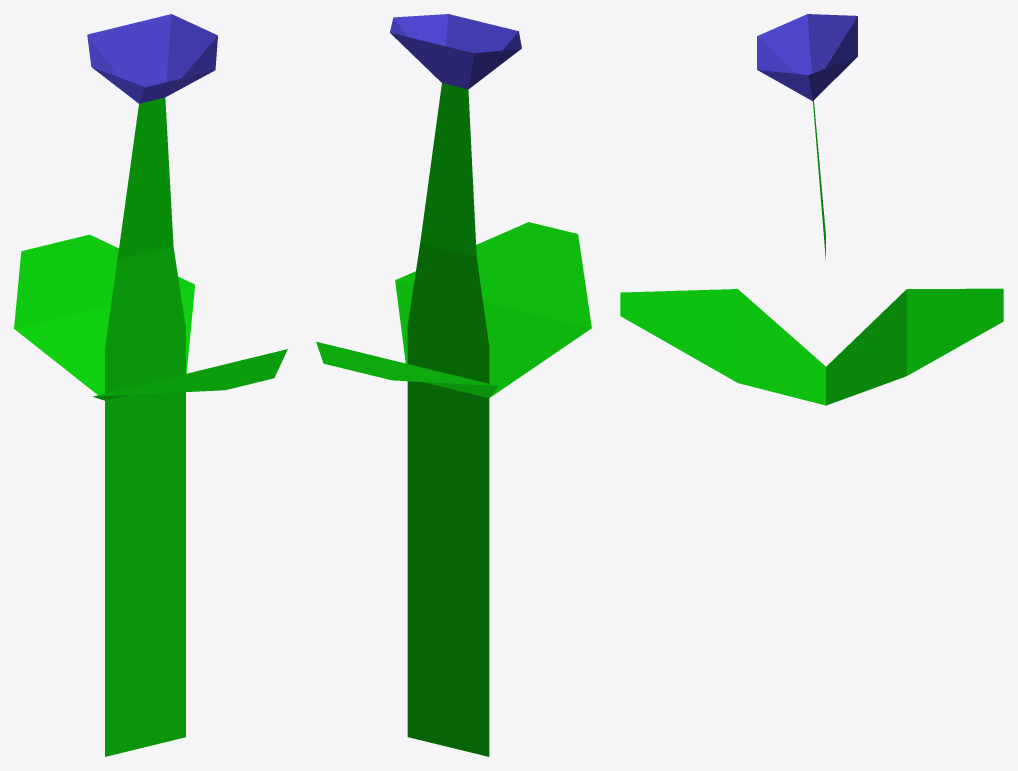
Rendered from Flower.obj.
The picture shows the model from 3 angles, left to right: view 1: azimuth 30°, elevation 25°; view 2: azimuth 150°, elevation 25°; view 3: azimuth 270°, elevation 25°; orthographic projection. The views are drawn at different scales.
Visible parts, largest first — view 1: Plane, Plane.001; view 2: Plane, Plane.001; view 3: Plane, Plane.001.
Part boxes in pixels (x1,y1,x2,y2): Plane: [14, 14, 287, 756]; Plane.001: [15, 14, 286, 756]; Plane: [316, 14, 591, 756]; Plane.001: [317, 14, 590, 755]; Plane: [620, 14, 1003, 405]; Plane.001: [623, 14, 1003, 404].
Size of the model in its own units: 0.3094 by 1.08 by 0.5325.
